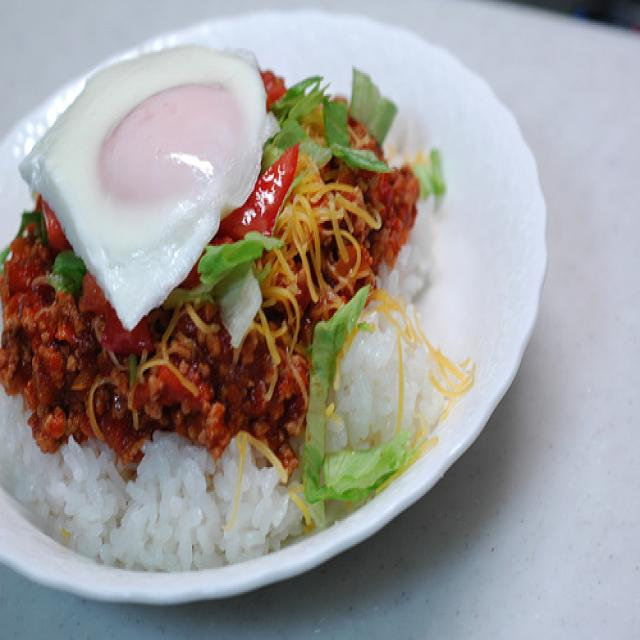鸡蛋料理: (22, 31, 297, 317)
